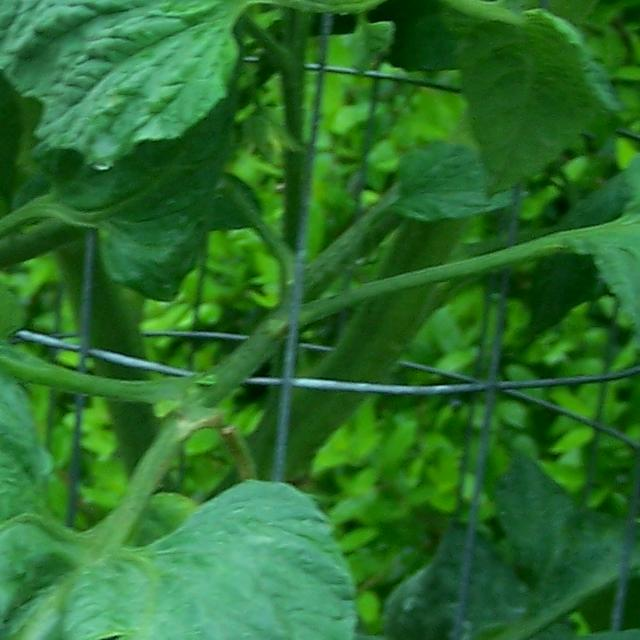Tomato leaf: (0, 473, 305, 640), (0, 0, 263, 135), (613, 196, 640, 485), (0, 169, 2, 342)
